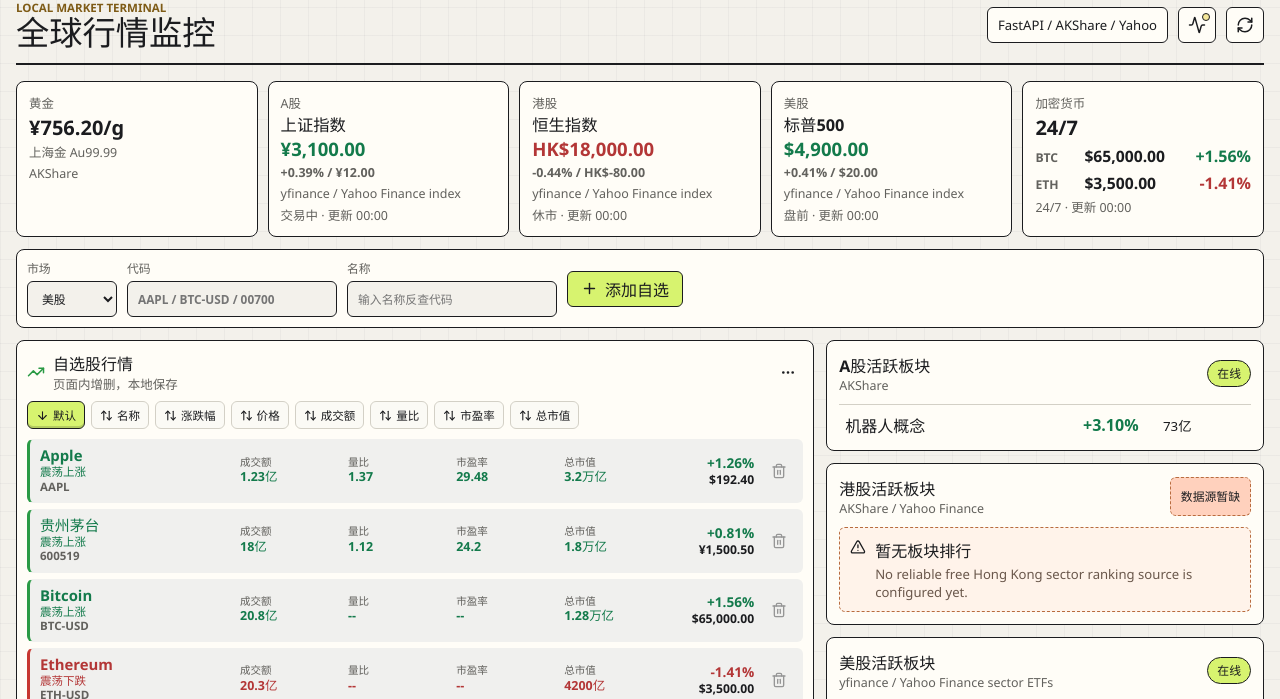
Scenario: App › loads sector constituents when a sector row is selected
Expected: the text "机器人概念" is shown, [845,415,925,437]
Click the button named "查看机器人概念成分". click: (885, 426)
box: [839,404,1251,438]
(page scrolled)
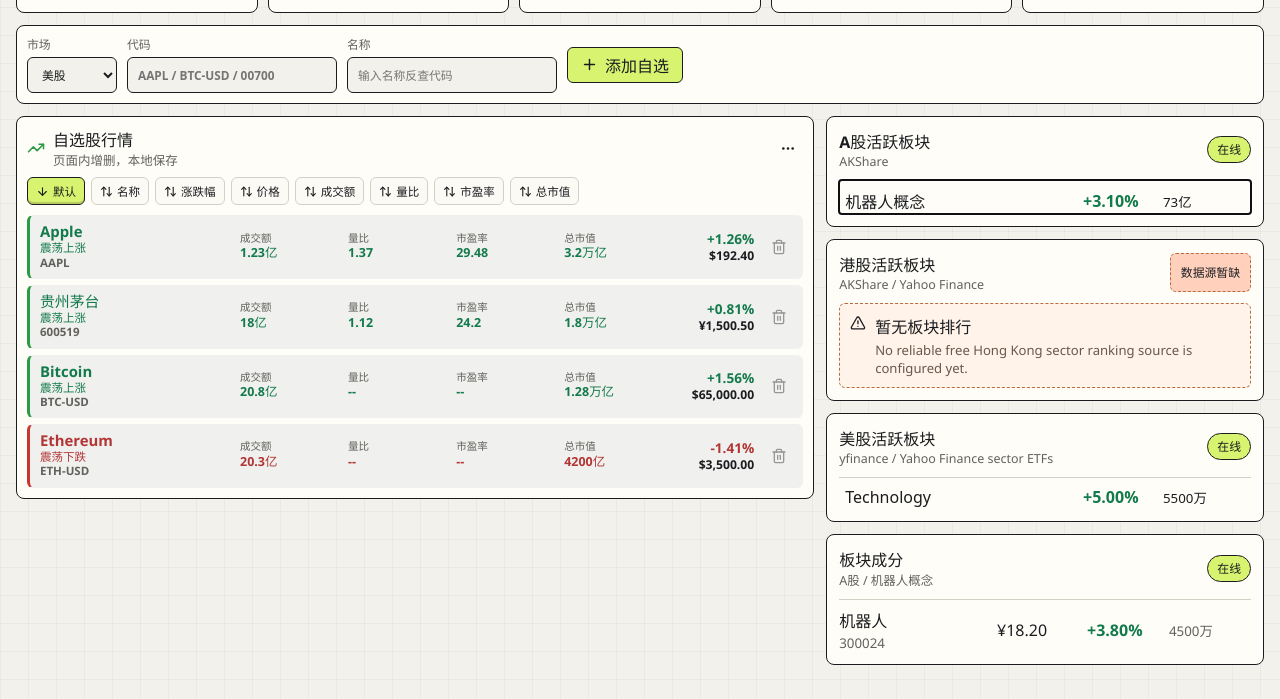
Expected: the heading "板块成分" is shown, [839,549,903,571]
Expected: the text "机器人" is shown, [839,610,887,632]
Expected: the text "300024" is shown, [839,634,885,652]
